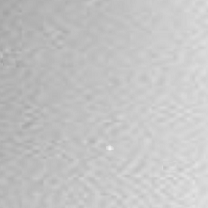Target: (106, 145, 114, 151)
